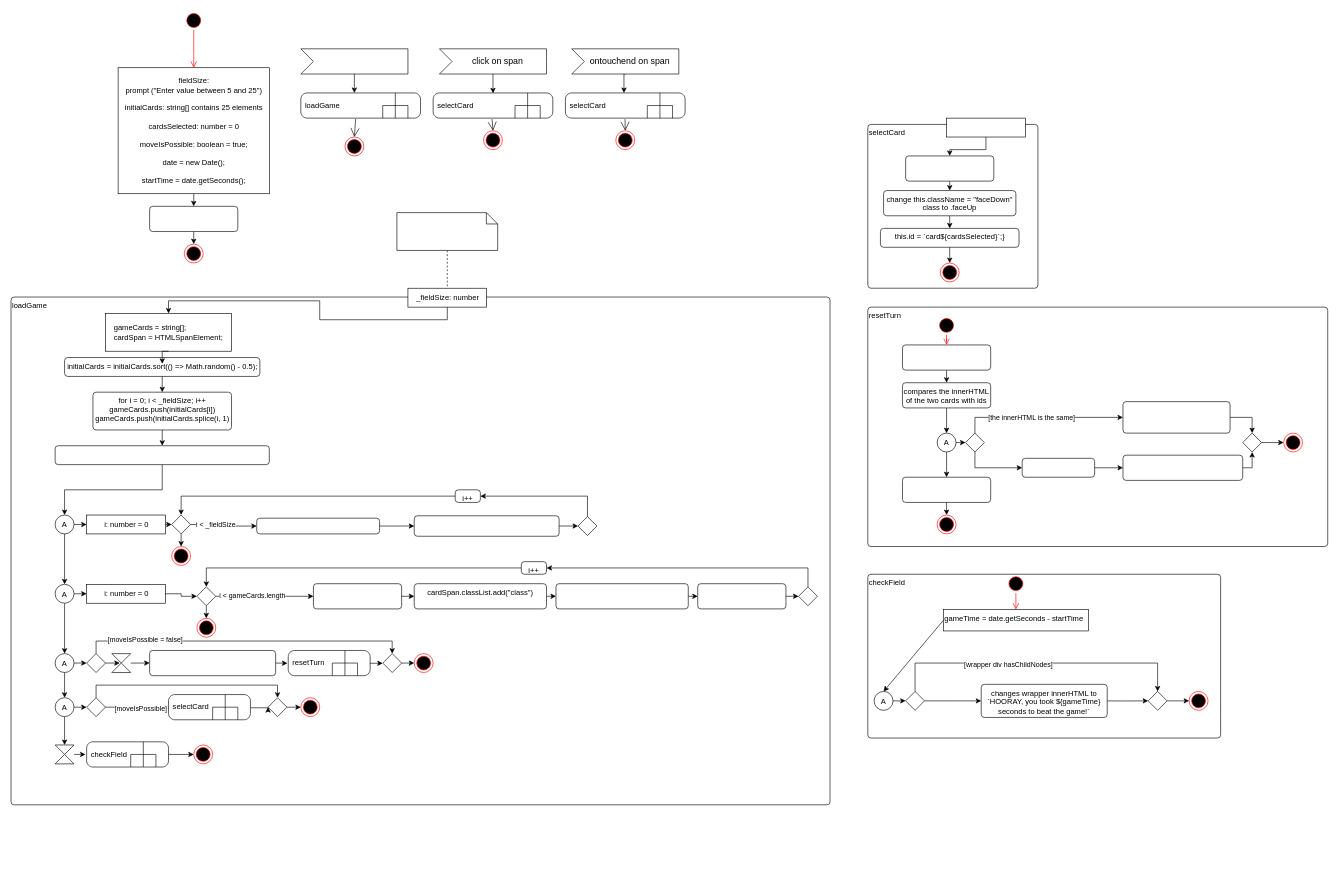
The diagram is 1339 pixels wide and 869 high, and some of its shapes have lost their labels. Here are the shapes that lost their labels. From the top down, the centre of each, then its label:
point 354,61: load
point 985,127: _event: HTMLEvent
point 949,168: cardsSelected++;
point 193,219: install load-listener
point 447,231: parseInt(fieldSize)
point 946,357: moveIsPossible = true
point 1176,417: wrapper div removes these childNodes
point 161,455: gameCards = gameCards.sort(() => Math.random() - 0.5);
point 1058,467: removes ids
point 1182,467: changes class .faceUp to .faceDown
point 946,489: cardsSelected = 0;
point 318,526: GameCards.push(initialCards[i])
point 486,525: GameCards.push(initialCards.splice(i, 1));
point 357,596: cardSpan.innerHTML = gameCards[i]
point 621,596: cardSpan.classList.add("faceDown")
point 741,596: Append wrapper by cardSpan
point 212,663: moveIsPossible = false
